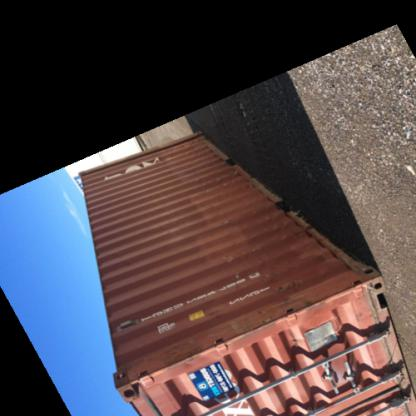Damage: (219, 306, 282, 336), (150, 337, 200, 374), (117, 352, 154, 391), (266, 192, 298, 216), (270, 276, 304, 296)
